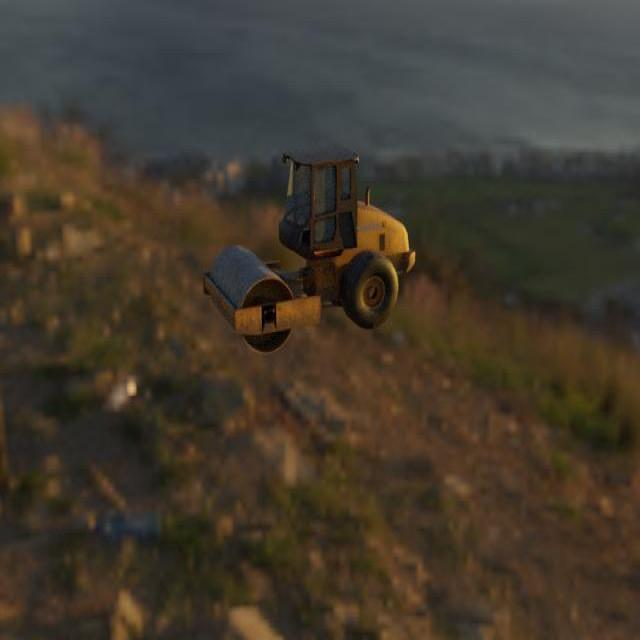Roller: (202, 145, 415, 355)
